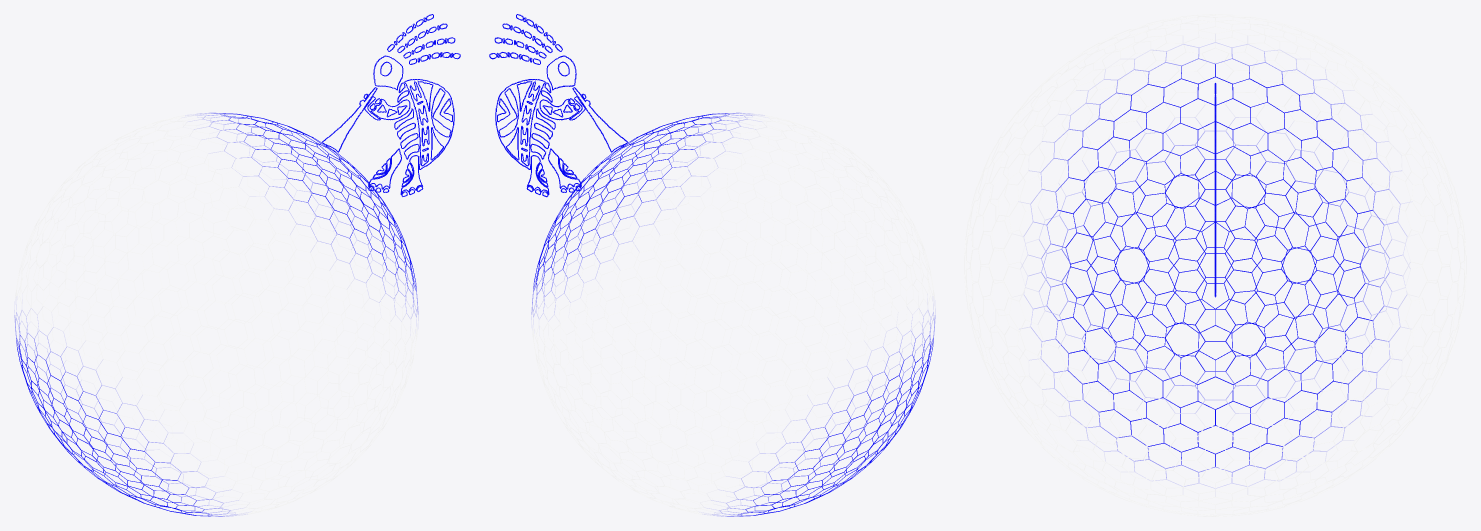
3 renders of one model, left to right at view 1: azimuth 30°, elevation 25°; view 2: azimuth 150°, elevation 25°; view 3: azimuth 270°, elevation 25°, orthographic. The views are drawn at different scales.
Size of the model in its own units: 4.79 by 4.71 by 4.
